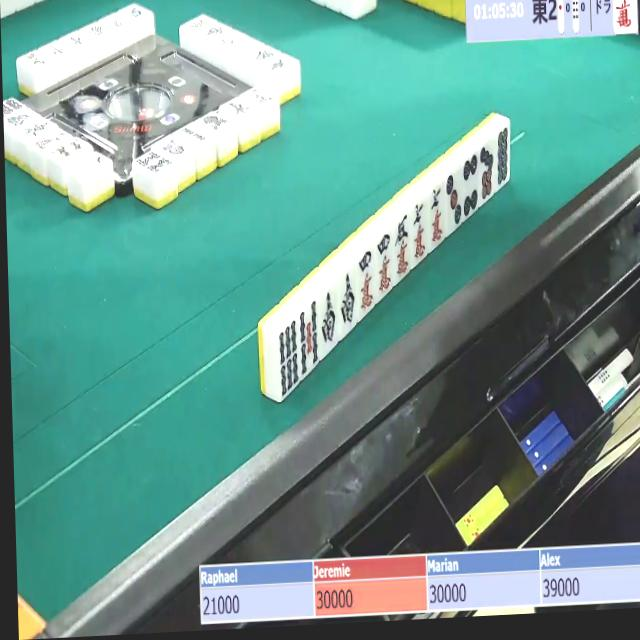3C: (614, 0, 638, 34)
3D: (446, 171, 465, 232)
4C: (356, 248, 378, 315), (376, 231, 397, 297)
4D: (462, 153, 480, 220)
5B: (298, 302, 323, 377)
5C: (393, 214, 413, 282)
6B: (277, 319, 304, 402)
7C: (427, 184, 447, 250), (412, 198, 431, 264)
7D: (479, 142, 497, 205)
8D: (494, 124, 511, 190)
EW: (226, 94, 251, 121)
SW: (319, 286, 340, 353), (340, 269, 360, 333)
